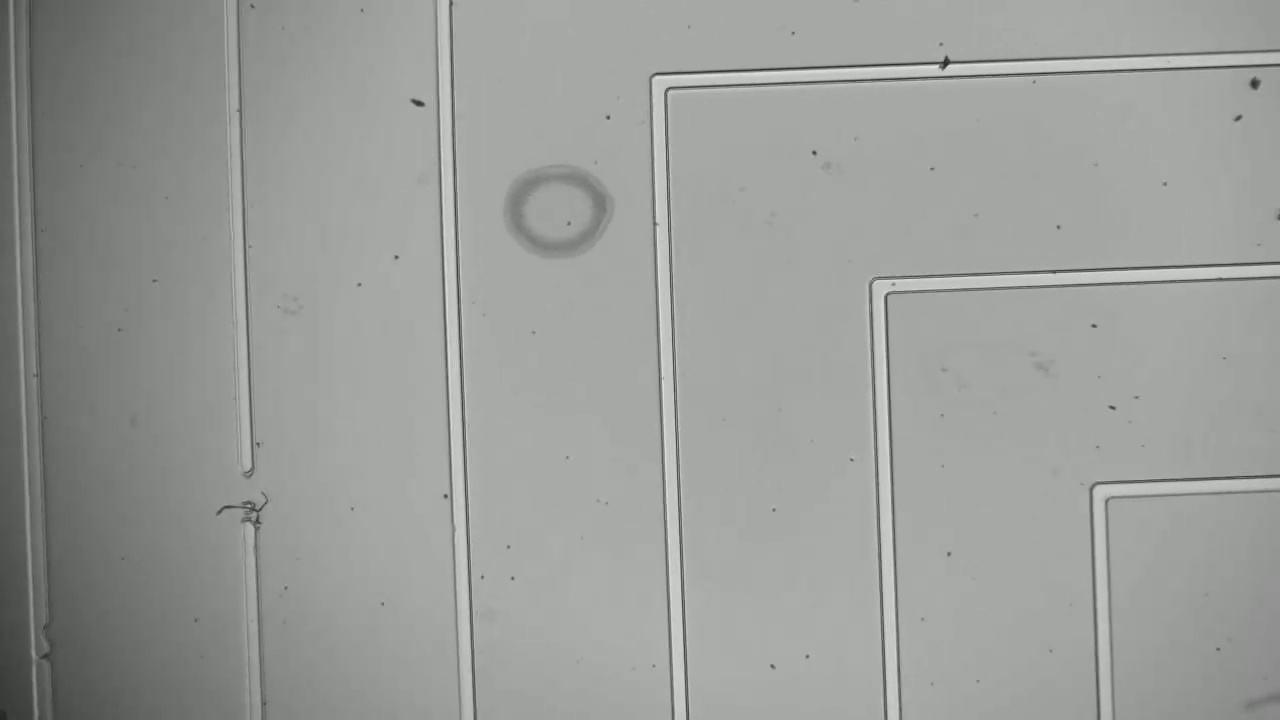edge_bite: (26, 615, 55, 649), (26, 646, 59, 674)
open: (231, 453, 266, 540)
stains_enbedded: (933, 49, 957, 88)
